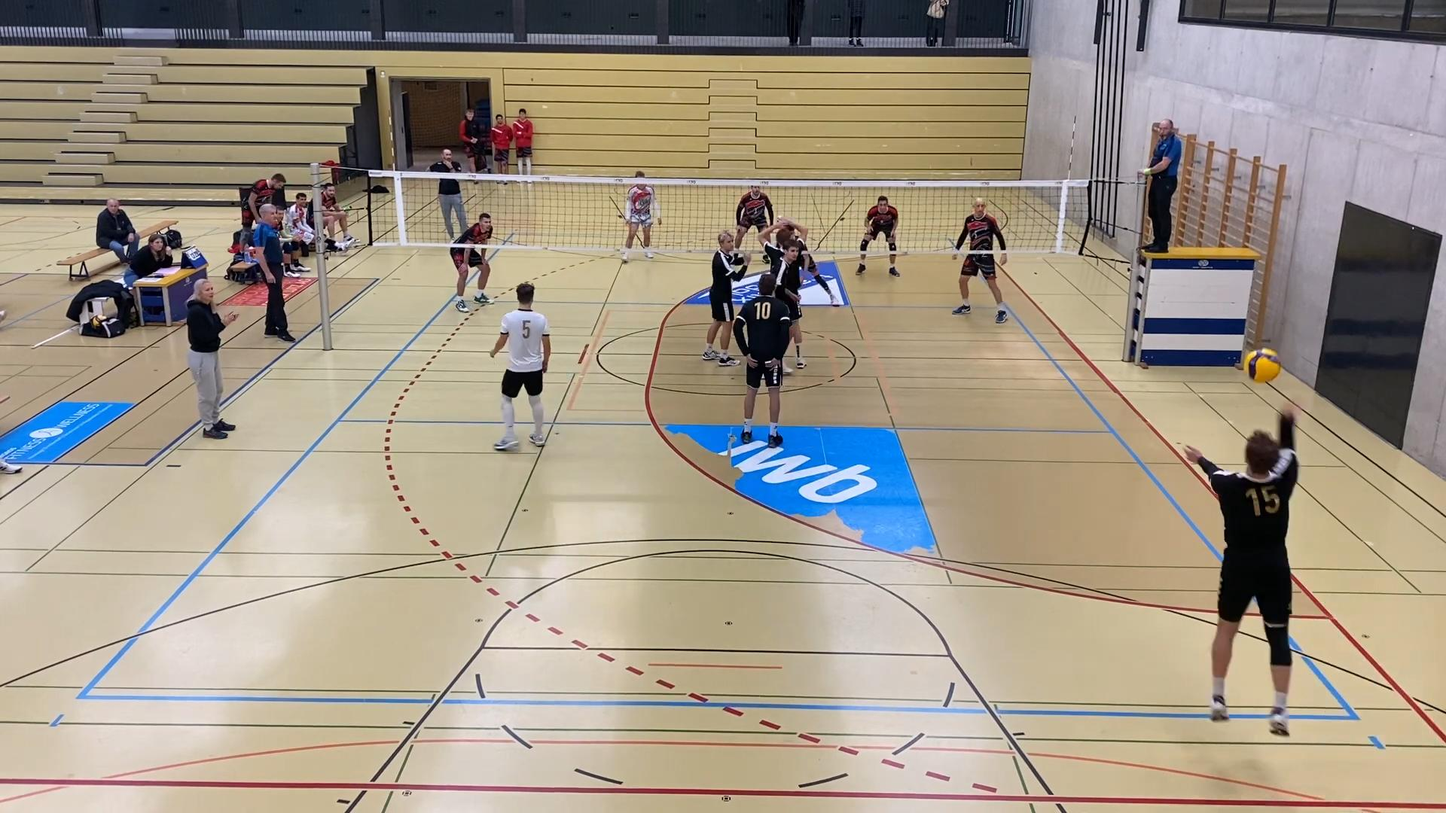battuta: (1184, 396, 1308, 742)
